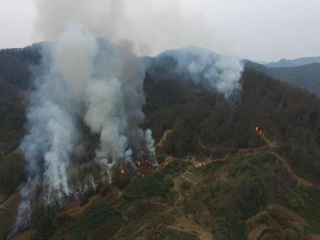smoke: (17, 12, 160, 205), (184, 32, 246, 98)
